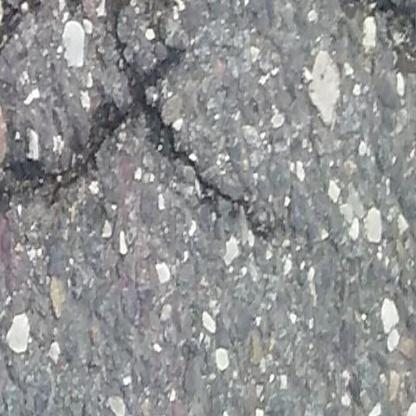Cracks: (0, 0, 281, 251), (329, 0, 416, 82)
